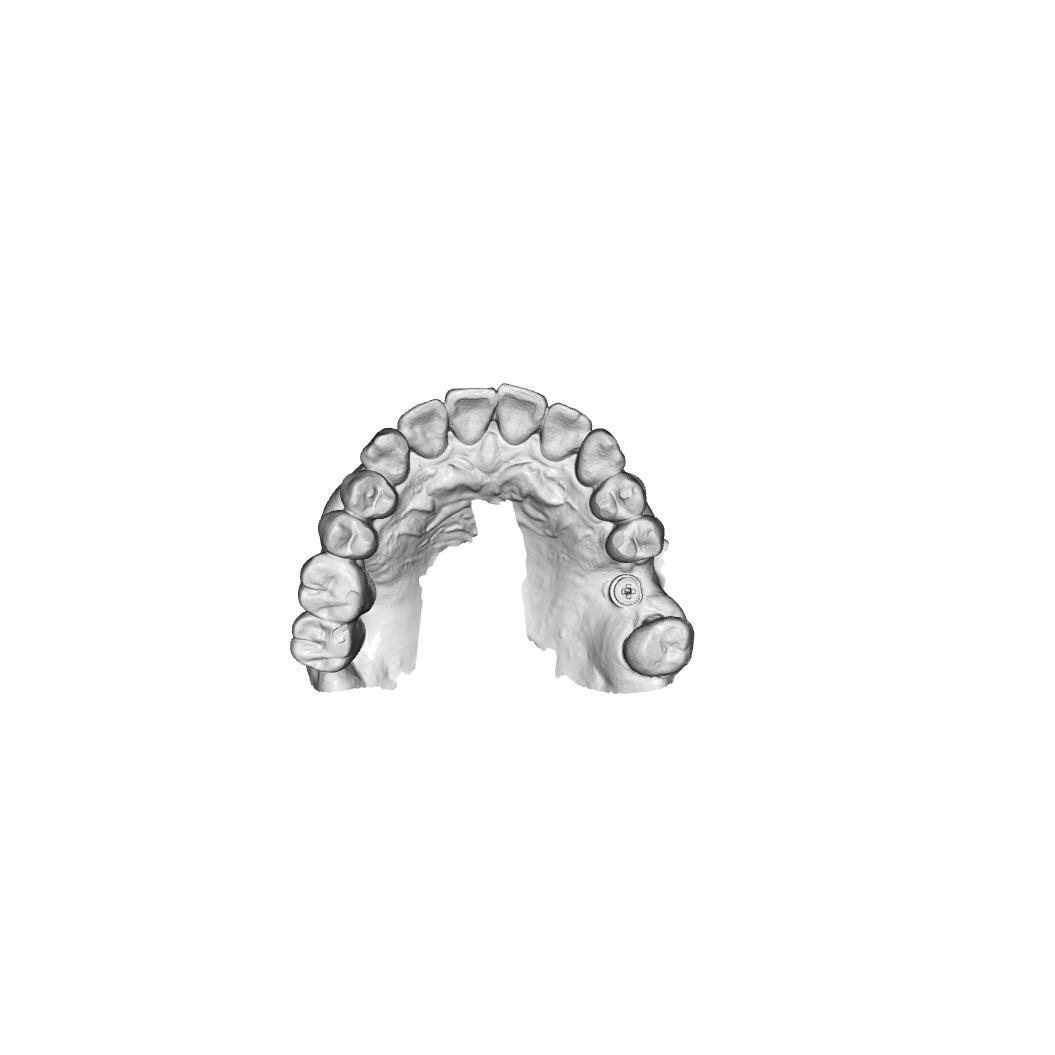canine: (574, 428, 627, 488), (359, 427, 411, 487)
implant_plus: (606, 572, 645, 609)
incisor: (495, 382, 549, 447), (539, 400, 593, 463), (397, 398, 450, 460), (444, 386, 497, 447)
molar: (296, 551, 374, 625), (288, 609, 368, 674), (620, 615, 696, 678)
premolar: (316, 509, 379, 561), (339, 469, 400, 521), (604, 514, 667, 564), (589, 472, 648, 524)
